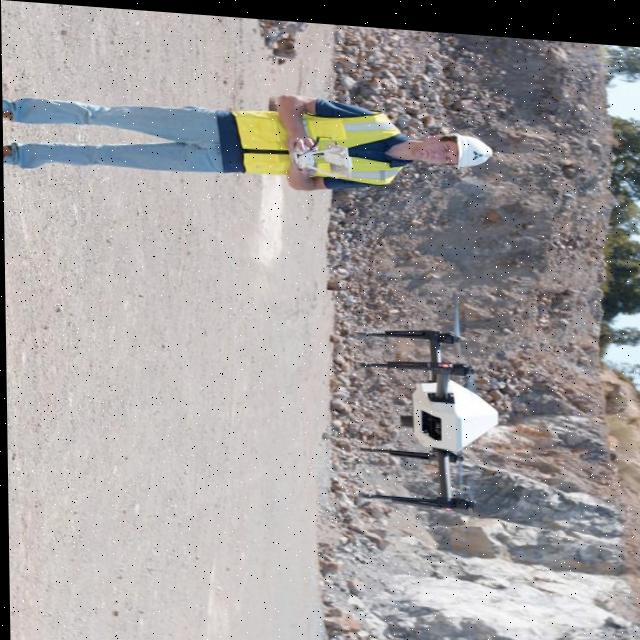drone: (342, 287, 499, 543)
